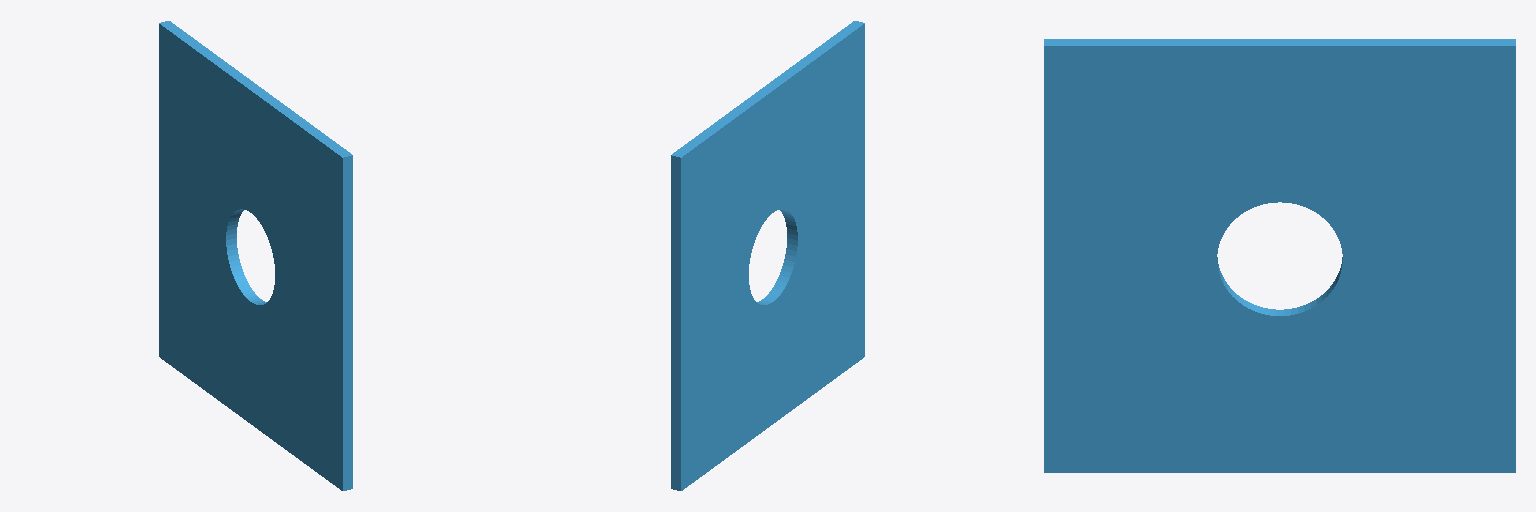
The robot description file, URDF, robot "panda":
<?xml version="1.0" ?>
<!-- =================================================================================== -->
<!-- |    This document was autogenerated by xacro from panda_arm.urdf.xacro           | -->
<!-- |    EDITING THIS FILE BY HAND IS NOT RECOMMENDED                                 | -->
<!-- =================================================================================== -->
<robot name="panda">
  <link name="panda_link0">
    <visual>
      <geometry>
        <mesh filename="franka_description/meshes/visual/link0.dae"/>
      </geometry>
    </visual>
    <collision>
      <geometry>
        <mesh filename="franka_description/meshes/collision/link0.stl"/>
      </geometry>
    </collision>
    <inertial>
      <origin rpy="0 0 0" xyz="-0.041018 -0.00014 0.049974"/>
      <mass value="0.629769"/>
      <inertia ixx="0.00315" ixy="8.2904e-07" ixz="0.00015" iyy="0.00388" iyz="8.2299e-06" izz="0.004285"/>
    </inertial>
  </link>
  <link name="panda_link1">
    <visual>
      <geometry>
        <mesh filename="franka_description/meshes/visual/link1.dae"/>
      </geometry>
    </visual>
    <collision>
      <geometry>
        <mesh filename="franka_description/meshes/collision/link1.stl"/>
      </geometry>
    </collision>
    <inertial>
      <origin rpy="0 0 0" xyz="0.003875 0.002081 -0.04762"/>
      <mass value="4.970684"/>
      <inertia ixx="0.70337" ixy="-0.000139" ixz="0.006772" iyy="0.70661" iyz="0.019169" izz="0.009117"/>
    </inertial>
  </link>
  <joint name="panda_joint1" type="revolute">
    <safety_controller k_position="100.0" k_velocity="40.0" soft_lower_limit="-2.8973" soft_upper_limit="2.8973"/>
    <origin rpy="0 0 0" xyz="0 0 0.333"/>
    <parent link="panda_link0"/>
    <child link="panda_link1"/>
    <axis xyz="0 0 1"/>
    <limit effort="87" lower="-2.8973" upper="2.8973" velocity="2.1750"/>
    <dynamics D="1" K="7000" damping="0.003" friction="0.0" mu_coulomb="0" mu_viscous="16"/>
  </joint>
  <link name="panda_link2">
    <visual>
      <geometry>
        <mesh filename="franka_description/meshes/visual/link2.dae"/>
      </geometry>
    </visual>
    <collision>
      <geometry>
        <mesh filename="franka_description/meshes/collision/link2.stl"/>
      </geometry>
    </collision>
    <inertial>
      <origin rpy="0 0 0" xyz="-0.003141 -0.02872  0.003495"/>
      <mass value="0.646926"/>
      <inertia ixx="0.007962" ixy="-0.003925" ixz="0.010254" iyy="0.02811" iyz="0.000704" izz="0.025995"/>
    </inertial>
  </link>
  <joint name="panda_joint2" type="revolute">
    <safety_controller k_position="100.0" k_velocity="40.0" soft_lower_limit="-1.7628" soft_upper_limit="1.7628"/>
    <origin rpy="-1.5707963267948966 0 0" xyz="0 0 0"/>
    <parent link="panda_link1"/>
    <child link="panda_link2"/>
    <axis xyz="0 0 1"/>
    <limit effort="87" lower="-1.7628" upper="1.7628" velocity="2.1750"/>
    <dynamics D="1" K="7000" damping="0.003" friction="0.0" mu_coulomb="0" mu_viscous="16"/>
  </joint>
  <link name="panda_link3">
    <visual>
      <geometry>
        <mesh filename="franka_description/meshes/visual/link3.dae"/>
      </geometry>
    </visual>
    <collision>
      <geometry>
        <mesh filename="franka_description/meshes/collision/link3.stl"/>
      </geometry>
    </collision>
    <inertial>
      <origin rpy="0 0 0" xyz="2.7518e-02 3.9252e-02 -6.6502e-02"/>
      <mass value="3.228604"/>
      <inertia ixx="0.037242" ixy="-0.004761" ixz="-0.011396" iyy="0.036155" iyz="-0.012805" izz="0.01083"/>
    </inertial>
  </link>
  <joint name="panda_joint3" type="revolute">
    <safety_controller k_position="100.0" k_velocity="40.0" soft_lower_limit="-2.8973" soft_upper_limit="2.8973"/>
    <origin rpy="1.5707963267948966 0 0" xyz="0 -0.316 0"/>
    <parent link="panda_link2"/>
    <child link="panda_link3"/>
    <axis xyz="0 0 1"/>
    <limit effort="87" lower="-2.8973" upper="2.8973" velocity="2.1750"/>
    <dynamics D="1" K="7000" damping="0.003" friction="0.0" mu_coulomb="0" mu_viscous="16"/>
  </joint>
  <link name="panda_link4">
    <visual>
      <geometry>
        <mesh filename="franka_description/meshes/visual/link4.dae"/>
      </geometry>
    </visual>
    <collision>
      <geometry>
        <mesh filename="franka_description/meshes/collision/link4.stl"/>
      </geometry>
    </collision>
    <inertial>
      <origin rpy="0 0 0" xyz="-5.317e-02 1.04419e-01 2.7454e-02"/>
      <mass value="3.587895"/>
      <inertia ixx="0.025853" ixy="0.007796" ixz="-0.001332" iyy="0.019552" iyz="0.008641" izz="0.028323"/>
    </inertial>
  </link>
  <joint name="panda_joint4" type="revolute">
    <safety_controller k_position="100.0" k_velocity="40.0" soft_lower_limit="-3.0718" soft_upper_limit="-0.0698"/>
    <origin rpy="1.5707963267948966 0 0" xyz="0.0825 0 0"/>
    <parent link="panda_link3"/>
    <child link="panda_link4"/>
    <axis xyz="0 0 1"/>
    <limit effort="87" lower="-3.0718" upper="-0.0698" velocity="2.1750"/>
    <dynamics D="1" K="7000" damping="0.003" friction="0.0" mu_coulomb="0" mu_viscous="16"/>
  </joint>
  <link name="panda_link5">
    <visual>
      <geometry>
        <mesh filename="franka_description/meshes/visual/link5.dae"/>
      </geometry>
    </visual>
    <collision>
      <geometry>
        <mesh filename="franka_description/meshes/collision/link5.stl"/>
      </geometry>
    </collision>
    <inertial>
      <origin rpy="0 0 0" xyz="-1.1953e-02 4.1065e-02 -3.8437e-02"/>
      <mass value="1.225946"/>
      <inertia ixx="0.035549" ixy="-0.002117" ixz="-0.004037" iyy="0.029474" iyz="0.000229" izz="0.008627"/>
    </inertial>
  </link>
  <joint name="panda_joint5" type="revolute">
    <safety_controller k_position="100.0" k_velocity="40.0" soft_lower_limit="-2.8973" soft_upper_limit="2.8973"/>
    <origin rpy="-1.5707963267948966 0 0" xyz="-0.0825 0.384 0"/>
    <parent link="panda_link4"/>
    <child link="panda_link5"/>
    <axis xyz="0 0 1"/>
    <limit effort="12" lower="-2.8973" upper="2.8973" velocity="2.6100"/>
    <dynamics D="1" K="7000" damping="0.003" friction="0.0" mu_coulomb="0" mu_viscous="16"/>
  </joint>
  <link name="panda_link6">
    <visual>
      <geometry>
        <mesh filename="franka_description/meshes/visual/link6.dae"/>
      </geometry>
    </visual>
    <collision>
      <geometry>
        <mesh filename="franka_description/meshes/collision/link6.stl"/>
      </geometry>
    </collision>
    <inertial>
      <origin rpy="0 0 0" xyz="6.0149e-02 -1.4117e-02 -1.0517e-02"/>
      <mass value="1.666555"/>
      <inertia ixx="0.001964" ixy="0.000109" ixz="-0.001158" iyy="0.004354" iyz="0.000341" izz="0.005433"/>
    </inertial>
  </link>
  <joint name="panda_joint6" type="revolute">
    <safety_controller k_position="100.0" k_velocity="40.0" soft_lower_limit="-0.0175" soft_upper_limit="3.7525"/>
    <origin rpy="1.5707963267948966 0 0" xyz="0 0 0"/>
    <parent link="panda_link5"/>
    <child link="panda_link6"/>
    <axis xyz="0 0 1"/>
    <limit effort="12" lower="-0.0175" upper="3.7525" velocity="2.6100"/>
    <dynamics D="1" K="7000" damping="0.003" friction="0.0" mu_coulomb="0" mu_viscous="16"/>
  </joint>
  <link name="panda_link7">
    <visual>
      <geometry>
        <mesh filename="franka_description/meshes/visual/link7.dae"/>
      </geometry>
    </visual>
    <collision>
      <geometry>
        <mesh filename="franka_description/meshes/collision/link7.stl"/>
      </geometry>
    </collision>
    <inertial>
      <origin rpy="0 0 0" xyz="1.0517e-02 -4.252e-03 6.1597e-02"/>
      <mass value="0.735522"/>
      <inertia ixx="0.012516" ixy="-0.000428" ixz="-0.001196" iyy="0.010027" iyz="-0.000741" izz="0.004815"/>
    </inertial>
  </link>
  <joint name="panda_joint7" type="revolute">
    <safety_controller k_position="100.0" k_velocity="40.0" soft_lower_limit="-2.8973" soft_upper_limit="2.8973"/>
    <origin rpy="1.5707963267948966 0 0" xyz="0.088 0 0"/>
    <parent link="panda_link6"/>
    <child link="panda_link7"/>
    <axis xyz="0 0 1"/>
    <limit effort="12" lower="-2.8973" upper="2.8973" velocity="2.6100"/>
    <dynamics D="1" K="7000" damping="0.003" friction="0.0" mu_coulomb="0" mu_viscous="16"/>
  </joint>
  <link name="panda_link8"/>
  <joint name="panda_joint8" type="fixed">
    <origin rpy="0 0 0" xyz="0 0 0.107"/>
    <parent link="panda_link7"/>
    <child link="panda_link8"/>
  </joint>
  <!-- have something that's very flat attached to panda_link8 horizontally -->
  <link name="pizza_peel">
    <visual>
      <geometry>
        <mesh filename="franka_description/meshes/visual/pizza_peel.stl"/>
      </geometry>
    </visual>
    <collision>
      <geometry>
        <mesh filename="franka_description/meshes/visual/pizza_peel.stl"/>
      </geometry>
    </collision>
  </link>
  <joint name="pizza_peel_joint" type="fixed">
    <origin rpy="0 0 0" xyz="0 0 0"/>
    <parent link="panda_link8"/>
    <child link="pizza_peel"/>
    <axis xyz="0 0 0"/>
  </joint>
</robot>

--- Render facts (derived) ---
The picture shows the robot from 3 angles, left to right: view 1: azimuth 30°, elevation 25°; view 2: azimuth 150°, elevation 25°; view 3: azimuth 270°, elevation 25°; orthographic projection.
Robot: panda — 10 links, 9 joints (7 revolute, 2 fixed); root link panda_link0; default pose: joints at zero except 1 at the middle of their limits (panda_joint4 = -1.57).
Links seen in each view (by area): view 1: pizza_peel; view 2: pizza_peel; view 3: pizza_peel.
Link boxes in pixels (x1,y1,x2,y2): pizza_peel: [159, 21, 352, 490]; pizza_peel: [671, 21, 864, 490]; pizza_peel: [1044, 39, 1515, 472].
Size in the robot's own frame: 0.01 by 0.3 by 0.3 metres.
Meshes: 9 distinct files referenced, 1 mesh visuals loaded (1 binary STL); not drawn: 8 (reference not matched to a file when rendering).